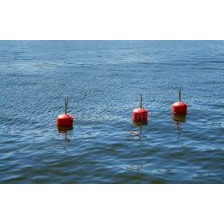buoy: (131, 108, 148, 125), (56, 113, 74, 129), (171, 101, 188, 117)
